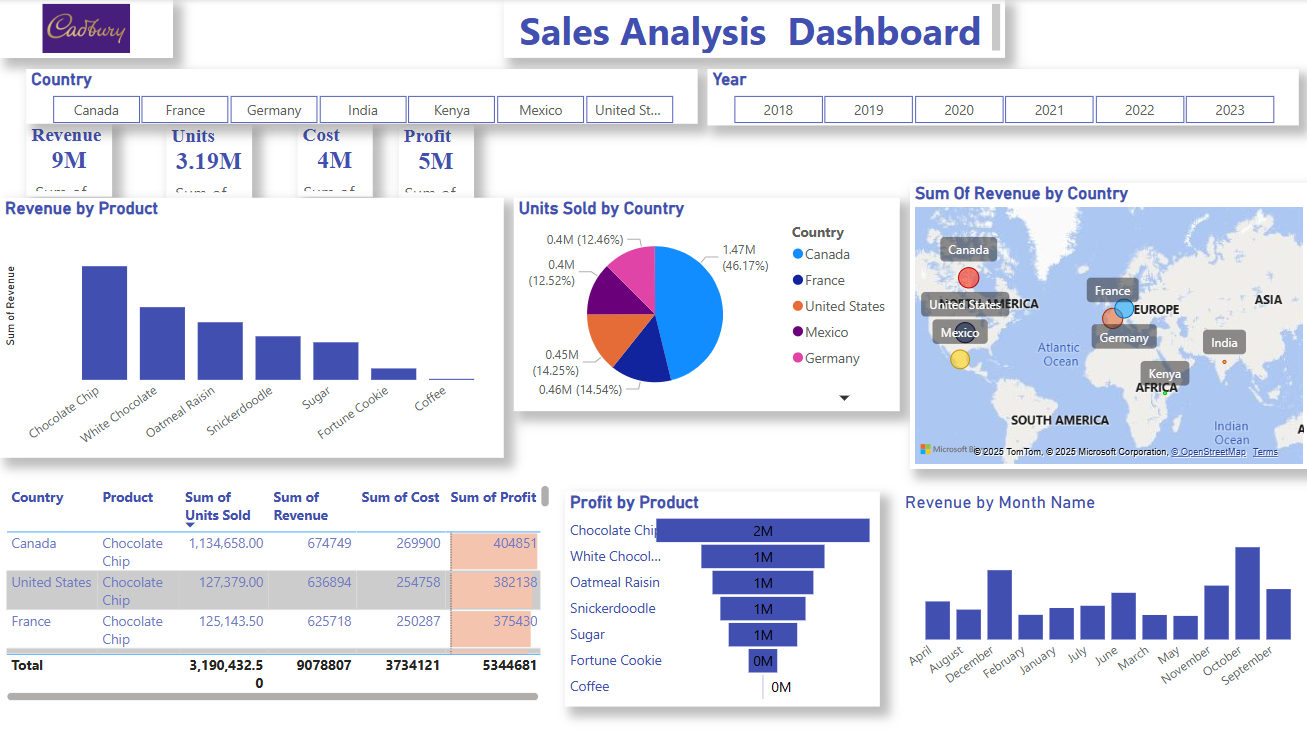

Layout of this report page (visuals, bound fields, positions):
{"tool":"powerbi","page":{"name":"dashboard","canvas":[1280,720],"ordinal":1},"visuals":[{"type":"image","box":[0,0,168.8,57.5],"z":0},{"type":"textbox","box":[492.8,0,490.4,57.5],"z":1000},{"type":"card","title":"Revenue","fields":{"Values":["Sum(Sheet1.Revenue)"]},"box":[25.7,122.3,84.4,70.9],"z":2000},{"type":"card","title":"Units ","fields":{"Values":["Sum(Sheet1.Units Sold)"]},"box":[162.6,123.5,84.4,70.9],"z":3000},{"type":"card","title":"Cost","fields":{"Values":["Sum(Sheet1.Cost)"]},"box":[291,122.3,73.4,70.9],"z":4000},{"type":"card","title":"Profit","fields":{"Values":["Sum(Sheet1.Profit)"]},"box":[390.1,123.5,73.4,70.9],"z":5000},{"type":"columnChart","title":"Revenue by Product","fields":{"Y":["Sum(Sheet1.Revenue)"],"Category":["Sheet1.Product"]},"box":[0,194.4,492.8,254.3],"z":6000},{"type":"pieChart","title":"Units Sold by Country","fields":{"Y":["Sum(Sheet1.Units Sold)"],"Category":["Sheet1.Country"]},"box":[502.6,194.4,377.9,209.1],"z":7000},{"type":"map","title":" Sum Of Revenue by Country","fields":{"Category":["Sheet1.Country"],"Size":["Sum(Sheet1.Revenue)"]},"box":[890.2,179.8,390.1,280],"z":8000},{"type":"funnel","title":"Profit by Product","fields":{"Category":["Sheet1.Product"],"Y":["Sum(Sheet1.Profit)"]},"box":[552.7,481.8,308.2,210.3],"z":9000},{"type":"tableEx","fields":{"Values":["Sheet1.Country","Sheet1.Product","Sum(Sheet1.Units Sold)","Sum(Sheet1.Revenue)","Sum(Sheet1.Cost)","Sum(Sheet1.Profit)"]},"box":[0,470.8,542.9,221.3],"z":10000},{"type":"columnChart","title":"Revenue by Month Name","fields":{"Y":["Sum(Sheet1 (2).Revenue)"],"Category":["Sheet1 (2).Month Name"]},"box":[880,482,400,210],"z":11000},{"type":"slicer","title":"Country","fields":{"Values":["Sheet1.Country"]},"box":[25.7,68.5,656.7,53.8],"z":12000},{"type":"slicer","title":"Year","fields":{"Values":["Sheet1.Year"]},"box":[692.1,68.5,578.4,55],"z":13000}]}

Visuals, with their boxes in screenshot pixels (x1, y1, x2, y2), scaled from the page's 1280x720 canvas onto the 1307x731 screenshot:
image: rect(0, 0, 172, 58)
textbox: rect(503, 0, 1004, 58)
"Revenue" card: rect(26, 124, 112, 196)
"Units " card: rect(166, 125, 252, 197)
"Cost" card: rect(297, 124, 372, 196)
"Profit" card: rect(398, 125, 473, 197)
"Revenue by Product" columnChart: rect(0, 197, 503, 456)
"Units Sold by Country" pieChart: rect(513, 197, 899, 410)
" Sum Of Revenue by Country" map: rect(909, 183, 1306, 467)
"Profit by Product" funnel: rect(564, 489, 879, 703)
tableEx - Sheet1.Country x Sheet1.Product: rect(0, 478, 554, 703)
"Revenue by Month Name" columnChart: rect(899, 489, 1306, 703)
"Country" slicer: rect(26, 70, 697, 124)
"Year" slicer: rect(707, 70, 1297, 125)
